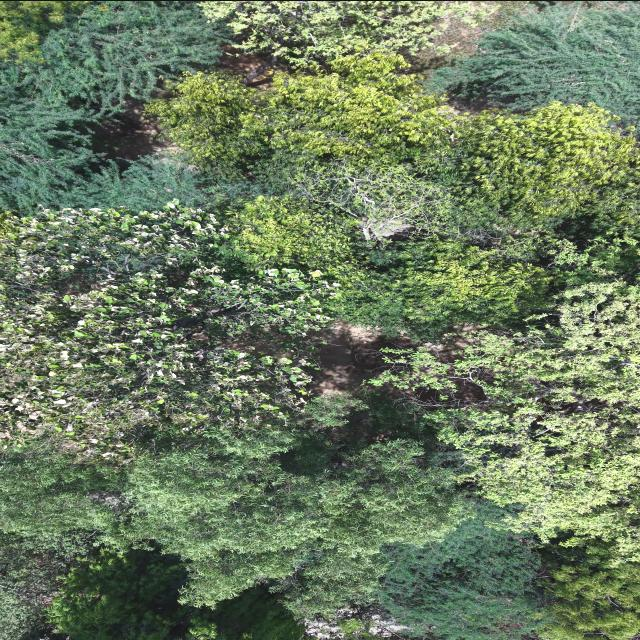VEGETATION_TREE: (0, 1, 639, 639), (2, 204, 464, 615), (148, 55, 636, 339), (0, 203, 337, 462), (147, 55, 635, 229), (372, 282, 639, 557), (127, 439, 469, 615), (0, 1, 229, 212), (147, 54, 449, 180), (425, 3, 639, 126), (200, 1, 551, 68), (378, 502, 547, 639), (48, 551, 303, 639), (200, 1, 493, 66), (0, 450, 127, 541), (0, 530, 96, 639), (537, 541, 639, 639), (0, 1, 87, 61)
